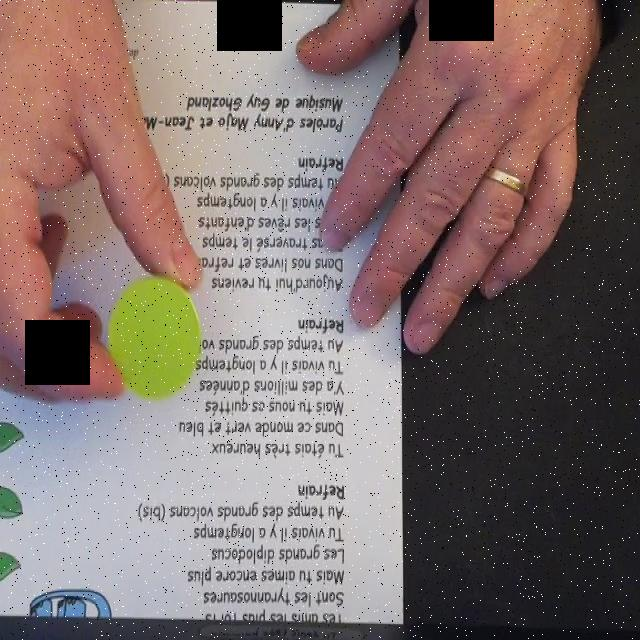round: (106, 276, 202, 401)
